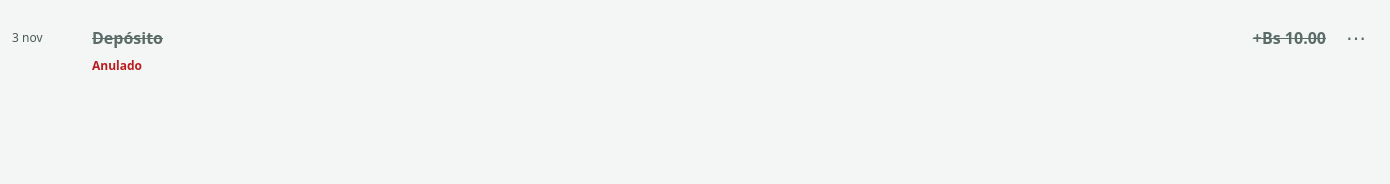
«Cambiar fecha y hora» solo en movimientos activos que no son ajustes › no aparece en un movimiento anulado (ahí está Reactivar en vez de Anular)
Click the button named "Acciones de ".
click(1356, 38)  # box [1334, 16, 1378, 60]
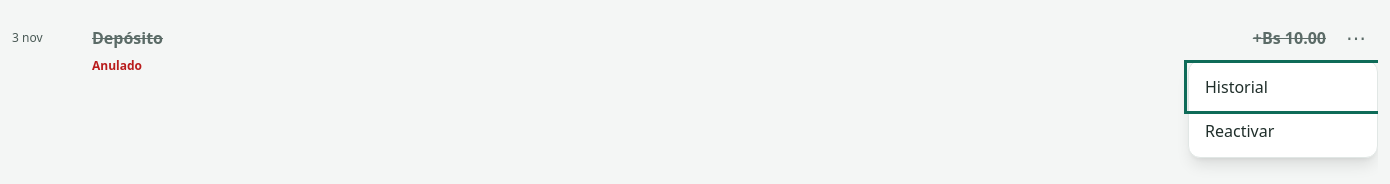
Now the menu item "Reactivar" is shown, box [1189, 109, 1377, 153]
